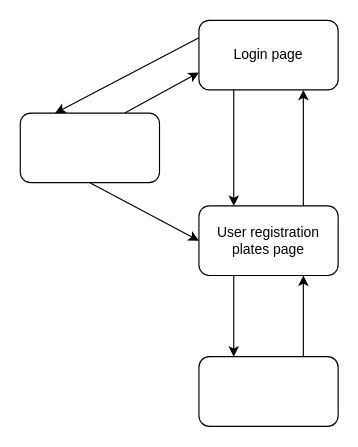
This 358x447 diagram has some shape labels left out. Here are the shapes that lost their labels. From the top down, the box of each, then its label:
(19, 112, 160, 183): Registration page
(198, 356, 338, 426): Registration plate entry details page
